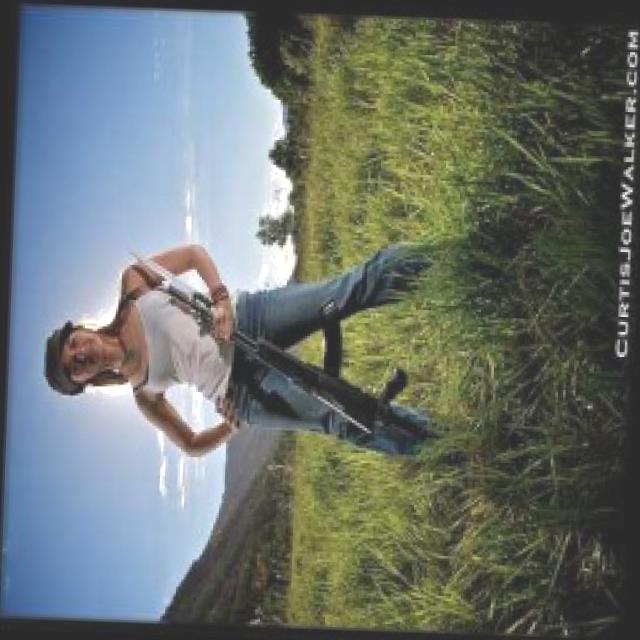long weapon: (102, 205, 459, 482)
